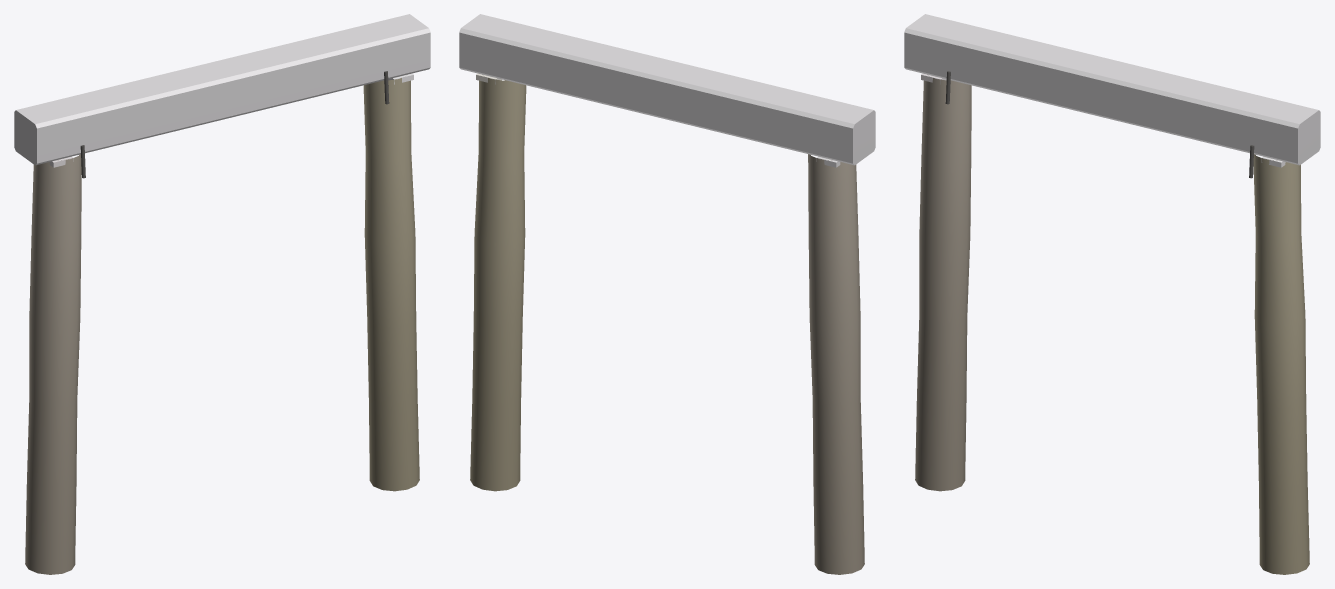
The model's file is shoring_wood.glb.
3 renders of one model, left to right at view 1: azimuth 30°, elevation 25°; view 2: azimuth 150°, elevation 25°; view 3: azimuth 330°, elevation 25°, orthographic.
Parts seen in each view (by area): view 1: shoring_wood; view 2: shoring_wood; view 3: shoring_wood.
Part boxes in pixels (x1,y1,x2,y2): shoring_wood: (14, 14, 430, 574); shoring_wood: (459, 14, 875, 574); shoring_wood: (904, 14, 1320, 574).
Size of the model in its own units: 2 by 2.2 by 0.2358.
